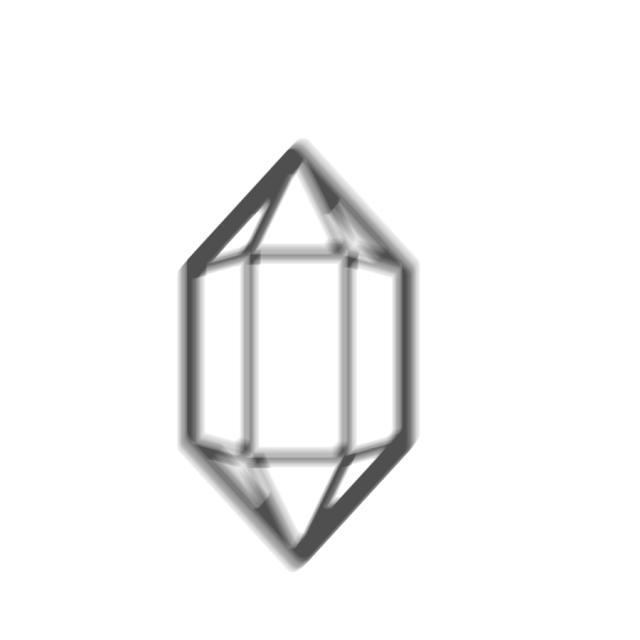crystal: (168, 136, 429, 578)
